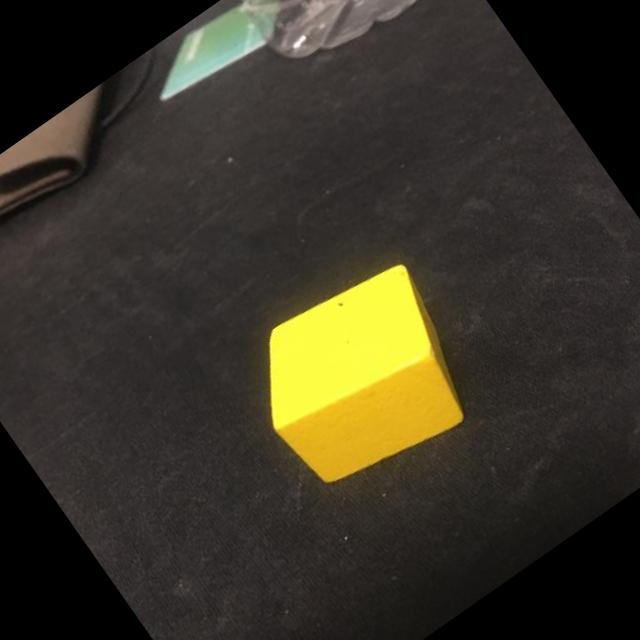yellow: (226, 242, 498, 510)
